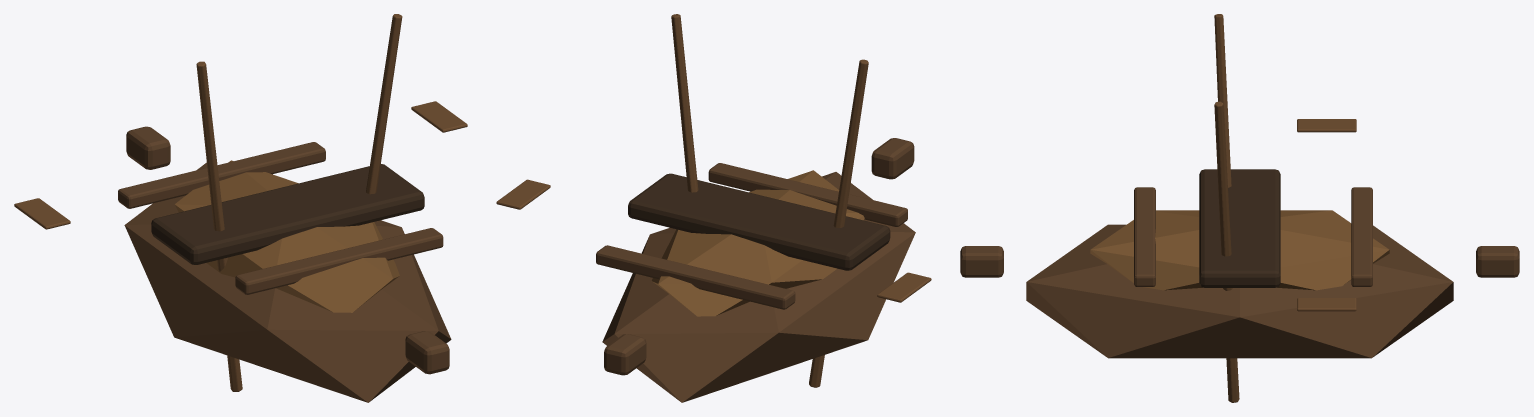
File: boat.glb
3 renders of one model, left to right at view 1: azimuth 30°, elevation 25°; view 2: azimuth 150°, elevation 25°; view 3: azimuth 270°, elevation 25°, orthographic. The views are drawn at different scales.
Parts seen in each view (by area): view 1: Icosphere, Cube, Icosphere.001, Cube.002, Cube.001, Cone, Cone.001, Cube.004, Cube.003, Cube.005, Cube.006; view 2: Icosphere, Cube, Icosphere.001, Cube.001, Cube.002, Cone, Cone.001, Cube.003, Cube.004, Cube.005, Cube.006; view 3: Icosphere, Icosphere.001, Cube, Cube.001, Cube.002, Cone.001, Cube.003, Cube.004, Cone, Cube.005, Cube.006.
Part boxes in pixels (bbox=[...]): Icosphere: bbox=[124, 162, 451, 402]; Cube: bbox=[151, 164, 424, 264]; Icosphere.001: bbox=[174, 160, 399, 312]; Cube.002: bbox=[235, 228, 443, 294]; Cube.001: bbox=[118, 142, 325, 208]; Cone: bbox=[196, 61, 242, 391]; Cone.001: bbox=[366, 14, 402, 194]; Cube.004: bbox=[126, 126, 170, 169]; Cube.003: bbox=[405, 331, 449, 374]; Cube.005: bbox=[14, 198, 70, 229]; Cube.006: bbox=[411, 101, 467, 132]; Icosphere: bbox=[602, 172, 915, 402]; Cube: bbox=[628, 173, 890, 270]; Icosphere.001: bbox=[652, 170, 864, 316]; Cube.001: bbox=[596, 245, 795, 309]; Cube.002: bbox=[708, 163, 907, 226]; Cone: bbox=[809, 59, 868, 387]; Cone.001: bbox=[671, 14, 698, 192]; Cube.003: bbox=[871, 138, 914, 179]; Cube.004: bbox=[604, 334, 646, 375]; Cube.005: bbox=[877, 272, 931, 302]; Cube.006: bbox=[496, 179, 550, 209]; Icosphere: bbox=[1026, 224, 1453, 358]; Icosphere.001: bbox=[1090, 210, 1389, 290]; Cube: bbox=[1199, 169, 1280, 287]; Cube.001: bbox=[1351, 187, 1372, 286]; Cube.002: bbox=[1134, 187, 1155, 286]; Cone.001: bbox=[1214, 101, 1239, 402]; Cube.003: bbox=[960, 246, 1003, 277]; Cube.004: bbox=[1476, 246, 1519, 277]; Cone: bbox=[1214, 14, 1231, 187]; Cube.005: bbox=[1297, 119, 1356, 132]; Cube.006: bbox=[1297, 298, 1356, 311].
Size of the model in its own units: 1.66 by 1.29 by 2.06.
